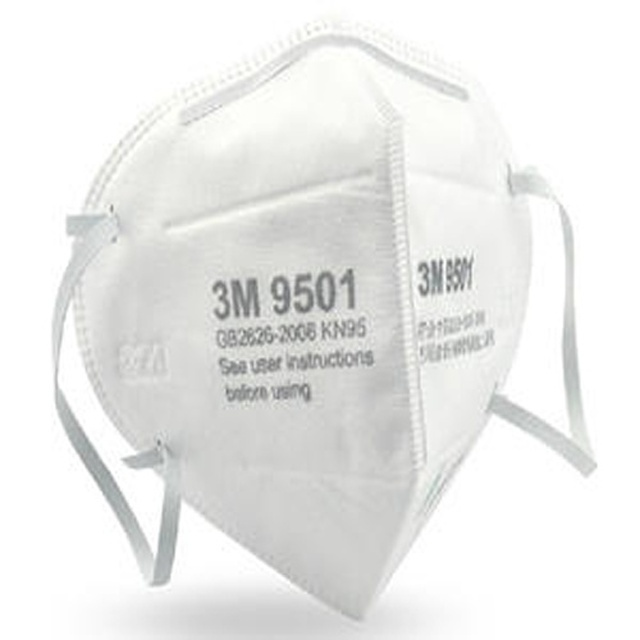mask: (46, 21, 608, 627)
